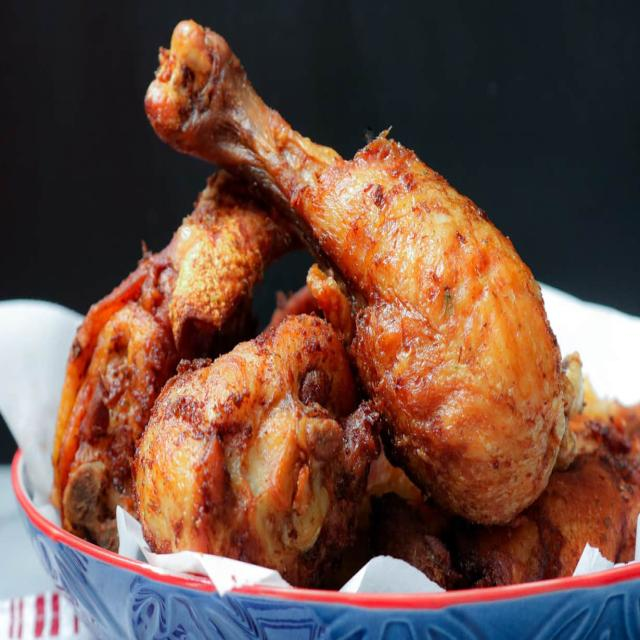Frango: (48, 19, 640, 613)
